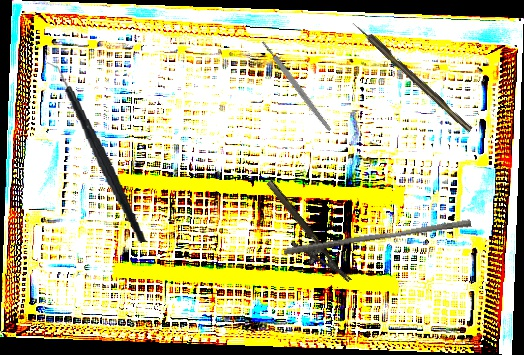Chopper: (40, 53, 149, 252)
Hook Surgical: (350, 18, 474, 134)
Needle Holder: (252, 178, 352, 296)
Pusher: (283, 212, 472, 263)
Scalpel Handle: (260, 39, 333, 133)
